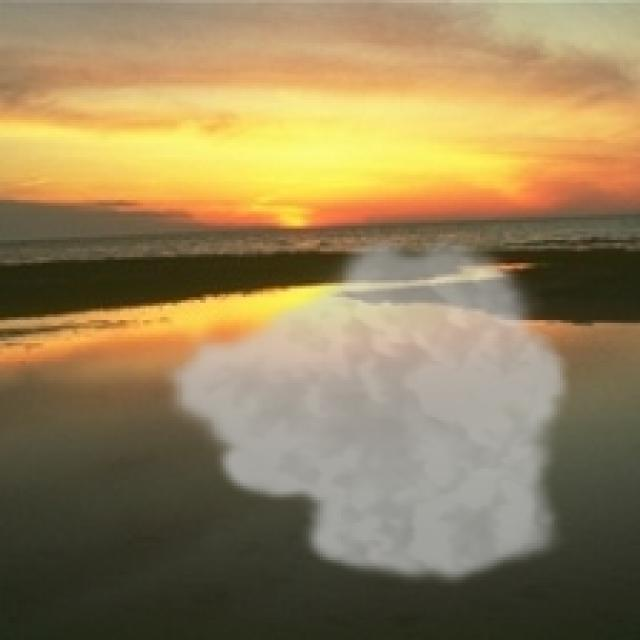Smoke: (160, 228, 574, 588)
